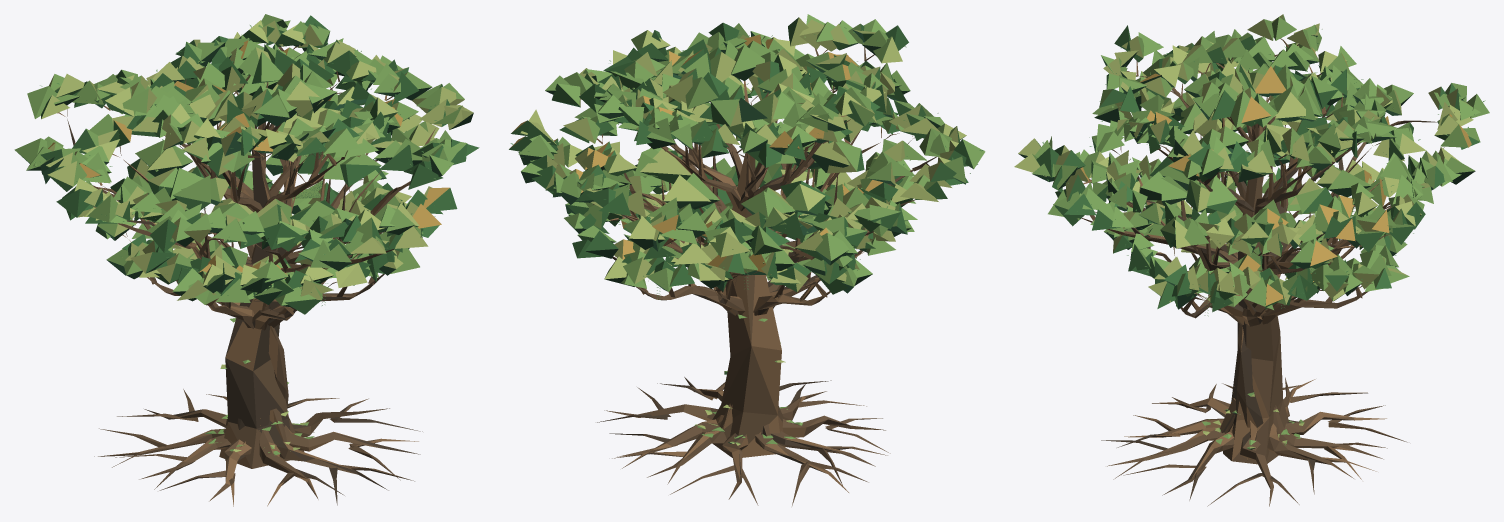
The model's file is Yggdrasil_LOD2.fbx.
3 renders of one model, left to right at view 1: azimuth 30°, elevation 25°; view 2: azimuth 150°, elevation 25°; view 3: azimuth 270°, elevation 25°, orthographic. The views are drawn at different scales.
Visible parts, largest first — view 1: YGG_Foliage_Tier_2_LOD2, YGG_Foliage_Tier_3_LOD2, YGG_Foliage_Tier_1_LOD2, YGG_AncientTrunk_LOD2, YGG_Foliage_Tier_4_LOD2, YGG_CrownBranches_Tier_2_LOD2, YGG_CrownBranches_Tier_3_LOD2, YGG_CrownBranches_Tier_1_LOD2, YGG_Root_09_LOD2, YGG_Root_10_LOD2, YGG_Root_08_LOD2, YGG_IntertwinedLeaders_LOD2 (+5 smaller); view 2: YGG_Foliage_Tier_2_LOD2, YGG_Foliage_Tier_3_LOD2, YGG_Foliage_Tier_1_LOD2, YGG_AncientTrunk_LOD2, YGG_Foliage_Tier_4_LOD2, YGG_CrownBranches_Tier_3_LOD2, YGG_CrownBranches_Tier_1_LOD2, YGG_CrownBranches_Tier_2_LOD2, YGG_Root_03_LOD2, YGG_Root_05_LOD2, YGG_Root_07_LOD2, YGG_Root_02_LOD2 (+4 smaller); view 3: YGG_Foliage_Tier_2_LOD2, YGG_Foliage_Tier_3_LOD2, YGG_Foliage_Tier_1_LOD2, YGG_Foliage_Tier_4_LOD2, YGG_AncientTrunk_LOD2, YGG_CrownBranches_Tier_2_LOD2, YGG_CrownBranches_Tier_3_LOD2, YGG_CrownBranches_Tier_1_LOD2, YGG_IntertwinedLeaders_LOD2, YGG_Root_09_LOD2, YGG_Root_03_LOD2, YGG_Root_04_LOD2 (+5 smaller).
Part boxes in pixels (x1,y1,x2,y2): YGG_Foliage_Tier_2_LOD2: [14, 45, 479, 271]; YGG_Foliage_Tier_3_LOD2: [96, 14, 432, 175]; YGG_Foliage_Tier_1_LOD2: [95, 154, 439, 314]; YGG_AncientTrunk_LOD2: [219, 124, 304, 468]; YGG_Foliage_Tier_4_LOD2: [185, 44, 337, 126]; YGG_CrownBranches_Tier_2_LOD2: [57, 87, 435, 272]; YGG_CrownBranches_Tier_3_LOD2: [149, 43, 392, 212]; YGG_CrownBranches_Tier_1_LOD2: [122, 173, 384, 330]; YGG_Root_09_LOD2: [268, 408, 414, 505]; YGG_Root_10_LOD2: [284, 425, 420, 480]; YGG_Root_08_LOD2: [259, 430, 344, 506]; YGG_IntertwinedLeaders_LOD2: [214, 160, 295, 429]; YGG_Foliage_Tier_2_LOD2: [509, 58, 985, 265]; YGG_Foliage_Tier_3_LOD2: [579, 14, 908, 167]; YGG_Foliage_Tier_1_LOD2: [564, 152, 915, 294]; YGG_AncientTrunk_LOD2: [712, 102, 785, 457]; YGG_Foliage_Tier_4_LOD2: [663, 40, 811, 126]; YGG_CrownBranches_Tier_3_LOD2: [657, 47, 874, 211]; YGG_CrownBranches_Tier_1_LOD2: [609, 207, 866, 315]; YGG_CrownBranches_Tier_2_LOD2: [557, 89, 937, 262]; YGG_Root_03_LOD2: [612, 404, 732, 484]; YGG_Root_05_LOD2: [755, 424, 868, 505]; YGG_Root_07_LOD2: [782, 415, 890, 453]; YGG_Root_02_LOD2: [609, 415, 724, 468]; YGG_Foliage_Tier_2_LOD2: [1014, 43, 1489, 269]; YGG_Foliage_Tier_3_LOD2: [1099, 14, 1397, 182]; YGG_Foliage_Tier_1_LOD2: [1104, 155, 1409, 312]; YGG_Foliage_Tier_4_LOD2: [1184, 60, 1338, 127]; YGG_AncientTrunk_LOD2: [1223, 123, 1288, 464]; YGG_CrownBranches_Tier_2_LOD2: [1081, 72, 1444, 274]; YGG_CrownBranches_Tier_3_LOD2: [1126, 38, 1360, 216]; YGG_CrownBranches_Tier_1_LOD2: [1147, 189, 1372, 326]; YGG_IntertwinedLeaders_LOD2: [1237, 240, 1302, 427]; YGG_Root_09_LOD2: [1101, 398, 1235, 479]; YGG_Root_03_LOD2: [1273, 405, 1387, 479]; YGG_Root_04_LOD2: [1284, 405, 1407, 442].
Size of the model in its own units: 152 by 139 by 158.
